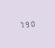nine: (25, 20, 30, 27)
seven: (18, 20, 23, 28)
zero: (31, 19, 36, 27)
